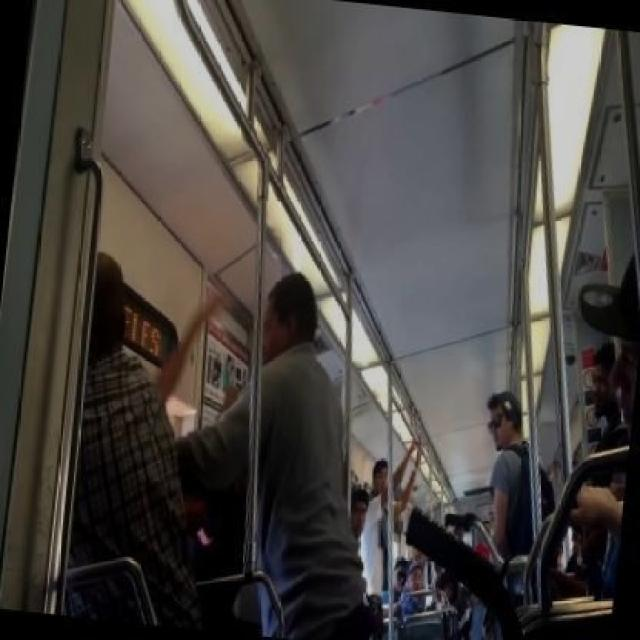fight: (24, 247, 413, 638)
non-fight: (448, 383, 568, 639)
